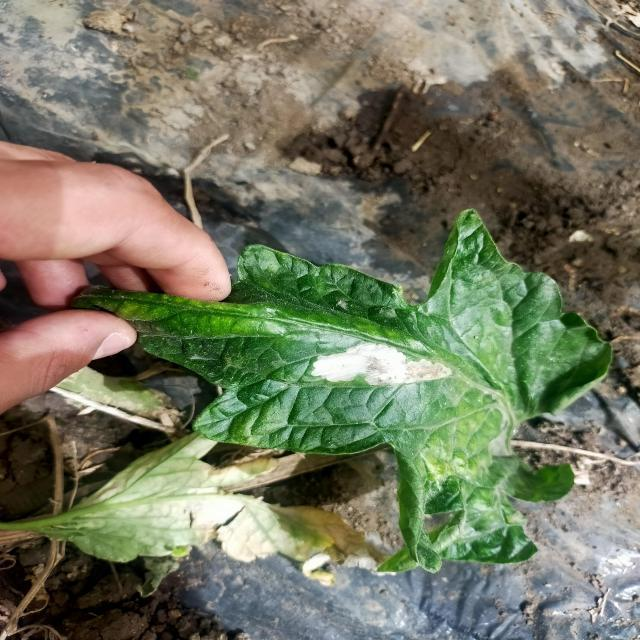Tuta absoluta: (311, 339, 453, 391)
